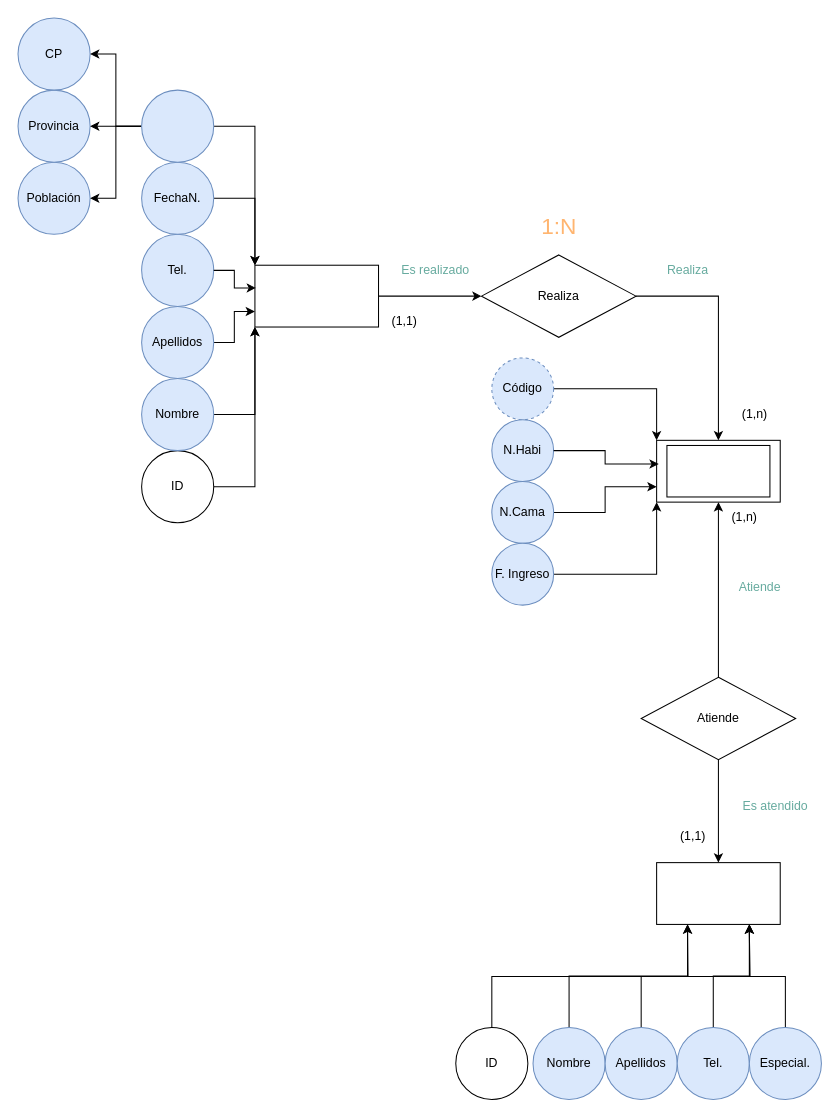
This 839x1118 diagram has some shape labels left out. The shapes that lost their labels are listed below. From the top down, each one's box as (x1, y1, x2, y2) in pixels, then its label:
(141, 89, 214, 162): Dirección
(254, 264, 379, 327): Paciente
(666, 444, 770, 497): Ingreso
(656, 862, 780, 924): Médico
